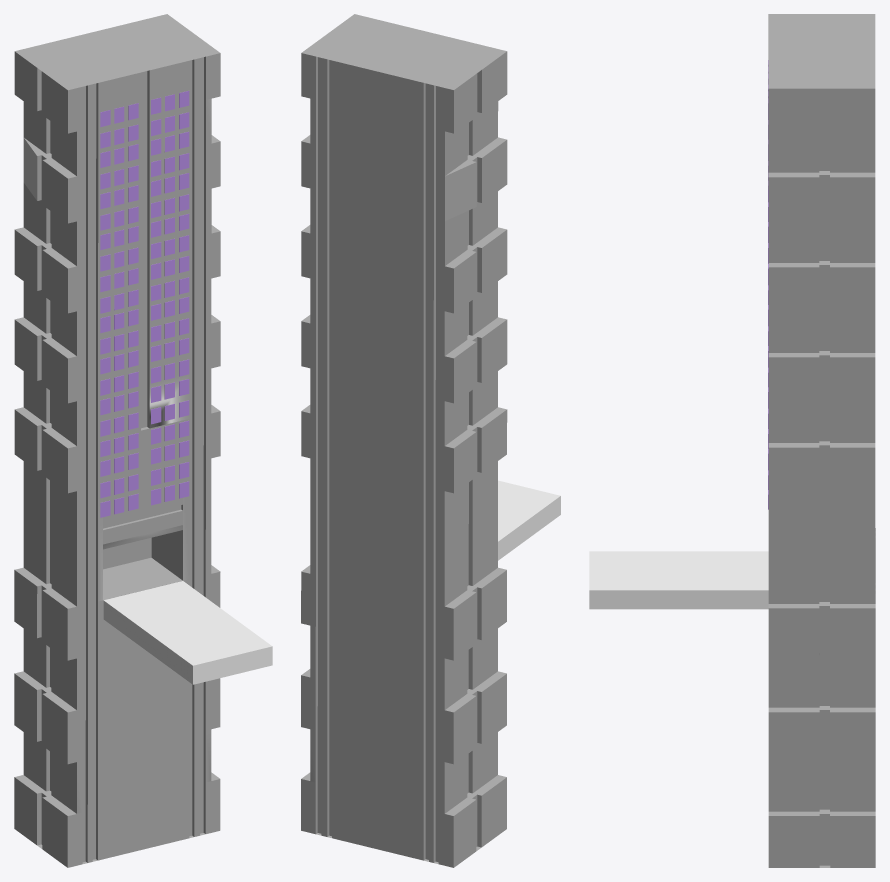
File: Building_7_NoRoof.fbx
The picture shows the model from 3 angles, left to right: view 1: azimuth 30°, elevation 25°; view 2: azimuth 150°, elevation 25°; view 3: azimuth 270°, elevation 25°; orthographic projection.
Parts seen in each view (by area): view 1: Cube.001, Cube_001, StartPlat; view 2: Cube.001, StartPlat; view 3: Cube.001, StartPlat.
Part boxes in pixels (x1,y1,x2,y2): Cube.001: (14,14,220,867); Cube_001: (100,91,189,517); StartPlat: (103,581,272,684); Cube.001: (301,14,507,867); StartPlat: (498,480,560,560); Cube.001: (768,14,875,867); StartPlat: (589,551,768,609).
Size of the model in its own units: 6465 by 31469 by 10474.
